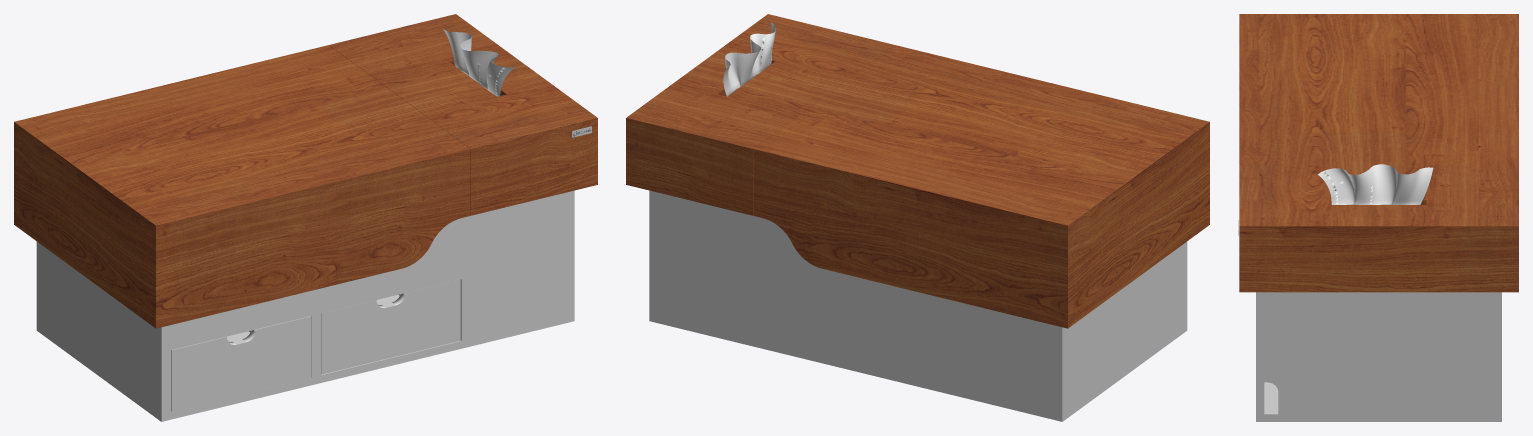
Rendered from Lina slide.glb.
3 views of the same model, side by side, from view 1: azimuth 30°, elevation 25°; view 2: azimuth 150°, elevation 25°; view 3: azimuth 270°, elevation 25° (orthographic).
Visible parts, largest first — view 1: G-__558984.001, G-__558912, G-__558975, G-__558894, G-__558921, Group#252.002; view 2: G-__558984.001, G-__558912, G-__558975, Group#252.002; view 3: G-__558984.001, G-__558975, G-__559029, G-__558912, Group#252.002.
Boxes of the visible parts, <box> form: G-__558984.001: <box>14,45,470,328</box>; G-__558912: <box>36,190,574,421</box>; G-__558975: <box>329,14,597,215</box>; G-__558894: <box>171,316,311,411</box>; G-__558921: <box>321,279,460,374</box>; Group#252.002: <box>443,29,514,96</box>; G-__558984.001: <box>753,45,1209,328</box>; G-__558912: <box>649,190,1187,421</box>; G-__558975: <box>626,14,894,215</box>; Group#252.002: <box>723,22,775,96</box>; G-__558984.001: <box>1239,14,1518,165</box>; G-__558975: <box>1239,165,1518,292</box>; G-__559029: <box>1264,292,1493,415</box>; G-__558912: <box>1256,292,1501,421</box>; Group#252.002: <box>1318,164,1433,204</box>.
Size of the model in its own units: 0.8984 by 0.4718 by 0.502.
Materials: 8 (1 with a texture image).
